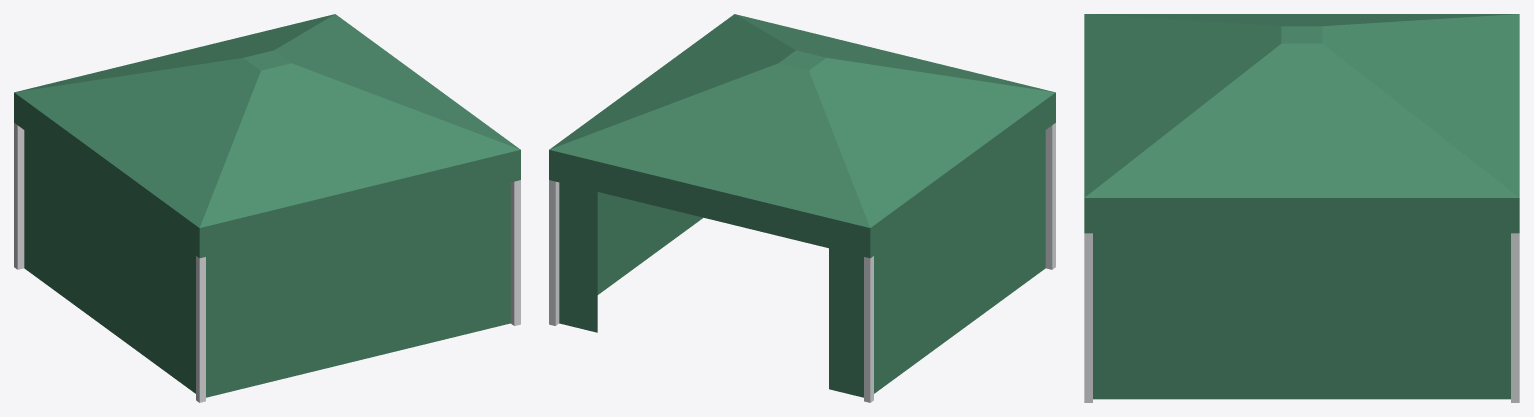
The model's file is tentClosed.obj.
The picture shows the model from 3 angles, left to right: view 1: azimuth 30°, elevation 25°; view 2: azimuth 150°, elevation 25°; view 3: azimuth 270°, elevation 25°; orthographic projection. The views are drawn at different scales.
Parts seen in each view (by area): view 1: tentClosed; view 2: tentClosed; view 3: tentClosed.
Part boxes in pixels (x1,y1,x2,y2): tentClosed: (14, 14, 520, 402); tentClosed: (549, 14, 1055, 402); tentClosed: (1084, 14, 1519, 402).
Bounding box in the file's own units: 1 × 0.7 × 1.
